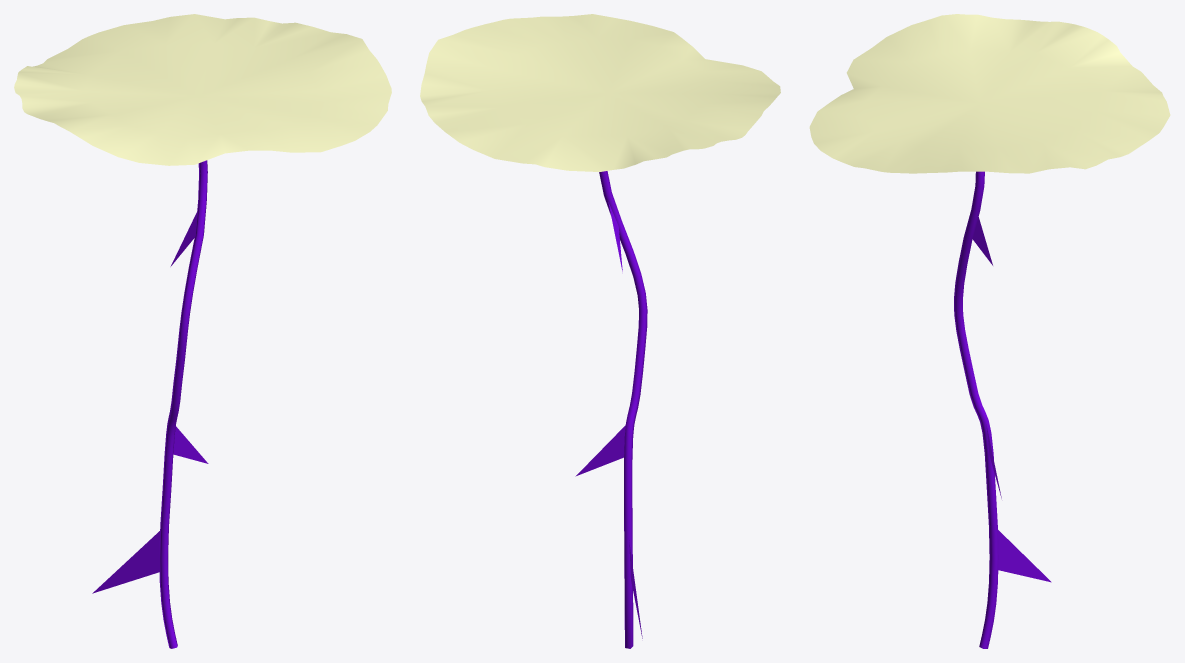
Rendered from Lotus_B.FBX.
3 renders of one model, left to right at view 1: azimuth 30°, elevation 25°; view 2: azimuth 150°, elevation 25°; view 3: azimuth 270°, elevation 25°, orthographic.
Visible parts, largest first — view 1: Geometry_Lotus_E_LOD00; view 2: Geometry_Lotus_E_LOD00; view 3: Geometry_Lotus_E_LOD00.
Boxes of the visible parts, bbox=[...] form: Geometry_Lotus_E_LOD00: bbox=[14, 14, 391, 648]; Geometry_Lotus_E_LOD00: bbox=[420, 14, 780, 648]; Geometry_Lotus_E_LOD00: bbox=[809, 14, 1170, 648].
Size of what is drawn, in the model's own units: 54.28 by 90.85 by 52.02.
